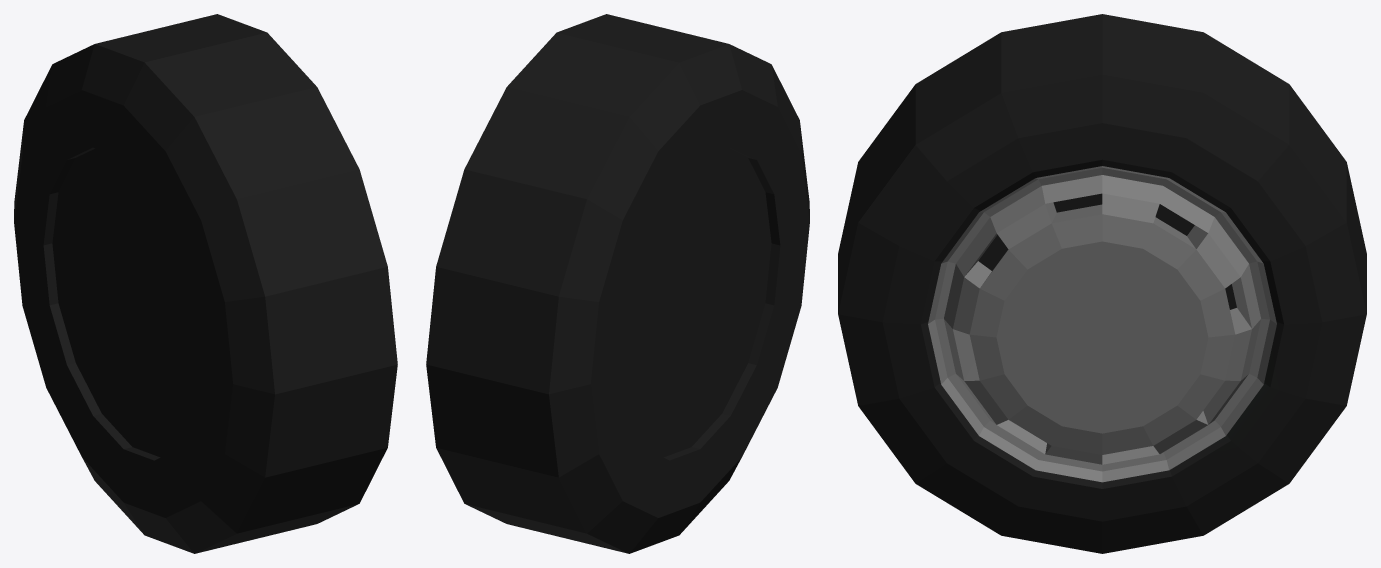
File: WHEEL-LEFT-1.fbx
The picture shows the model from 3 angles, left to right: view 1: azimuth 30°, elevation 25°; view 2: azimuth 150°, elevation 25°; view 3: azimuth 270°, elevation 25°; orthographic projection.
Parts seen in each view (by area): view 1: FL; view 2: FL; view 3: FL.
Boxes of the visible parts, left/top/right/bottom form: FL: left=14, top=14, right=397, bottom=553; FL: left=426, top=14, right=809, bottom=553; FL: left=838, top=14, right=1366, bottom=553.
Size of the model in its own units: 28.9 by 68.53 by 68.53.
